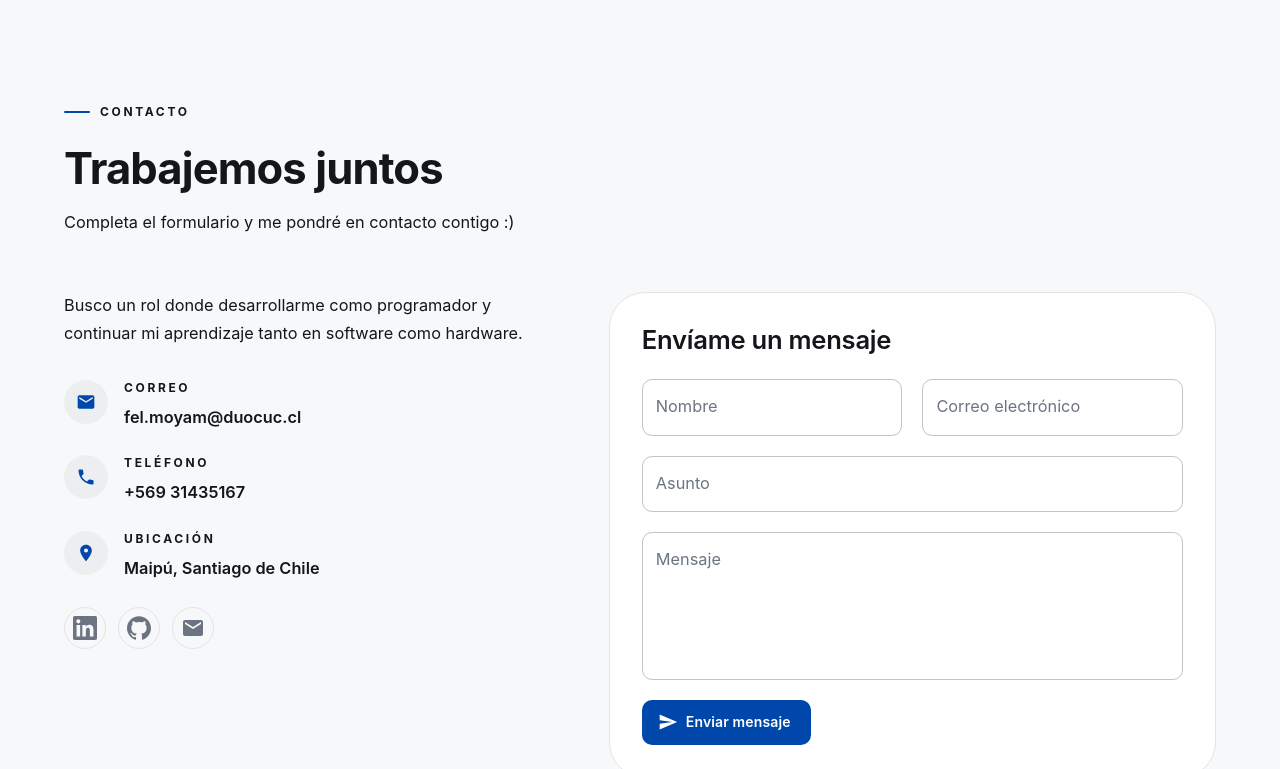
SeccionContacto - Organismo › limpia errores cuando el usuario escribe
Click the button "Enviar mensaje" at (726, 722), box 642,700 -> 811,745
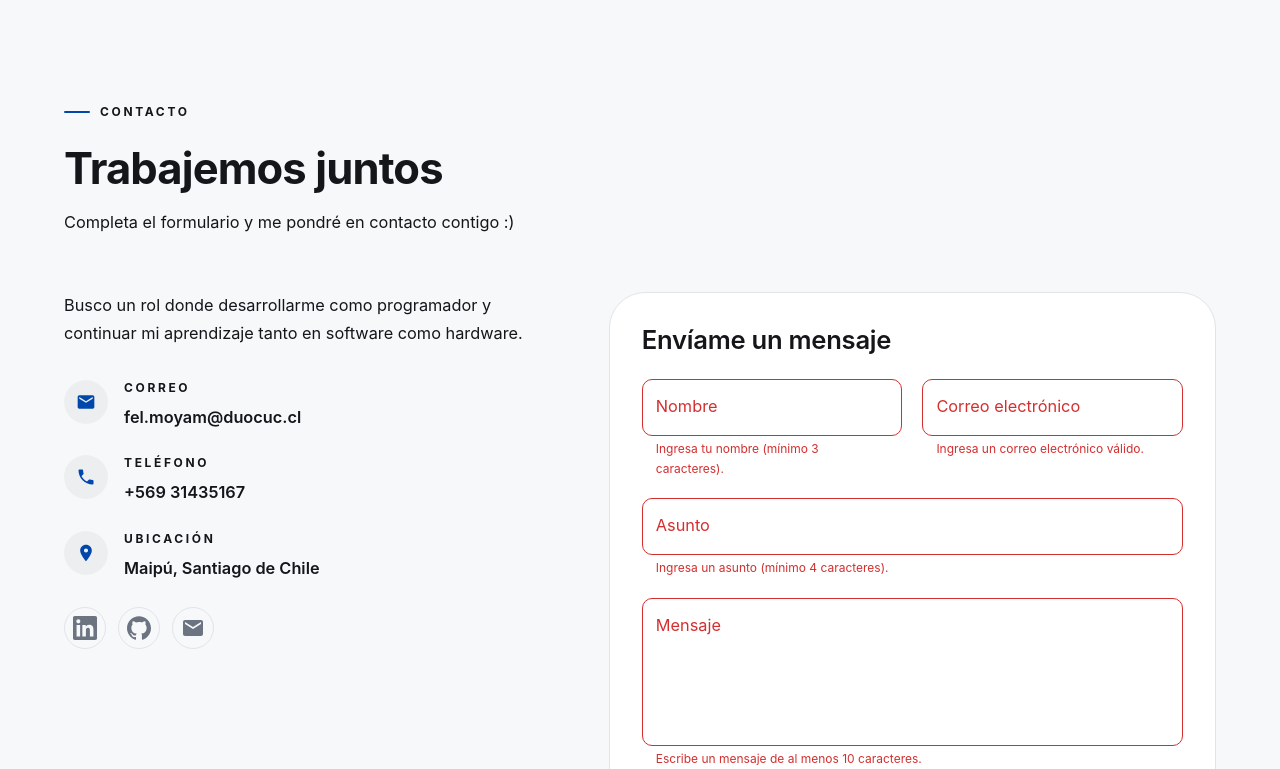
Expected: the text "Ingresa tu nombre (mínimo 3 caracteres)." is shown, 656,441 -> 819,476
Type "Juan" into the field labelled "Nombre" at (772, 407), box 642,379 -> 902,436
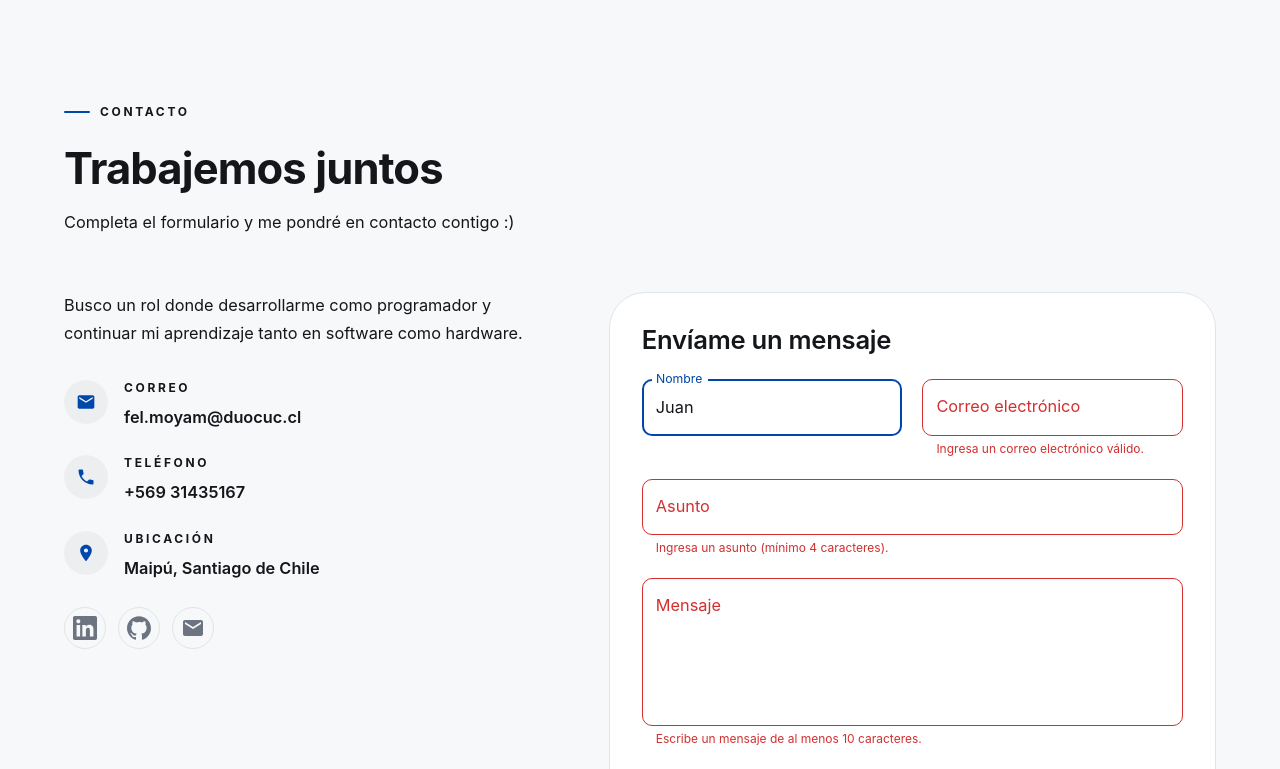
Expected: the text "Ingresa tu nombre" is gone
